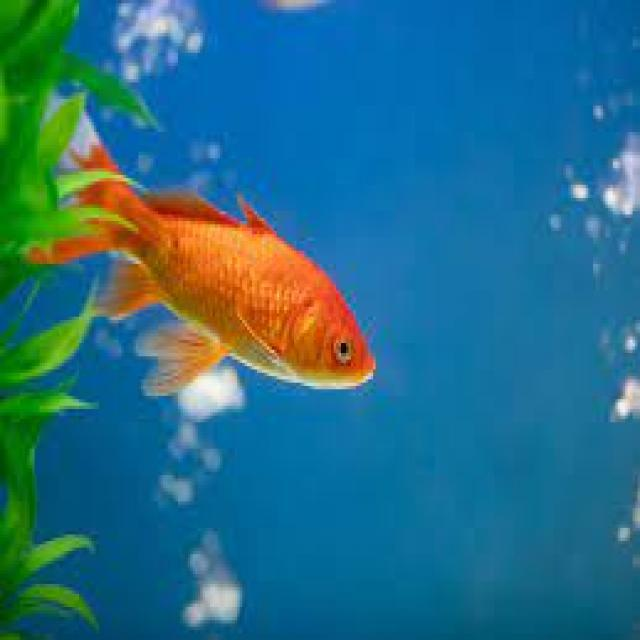goldfish: (68, 147, 386, 425)
